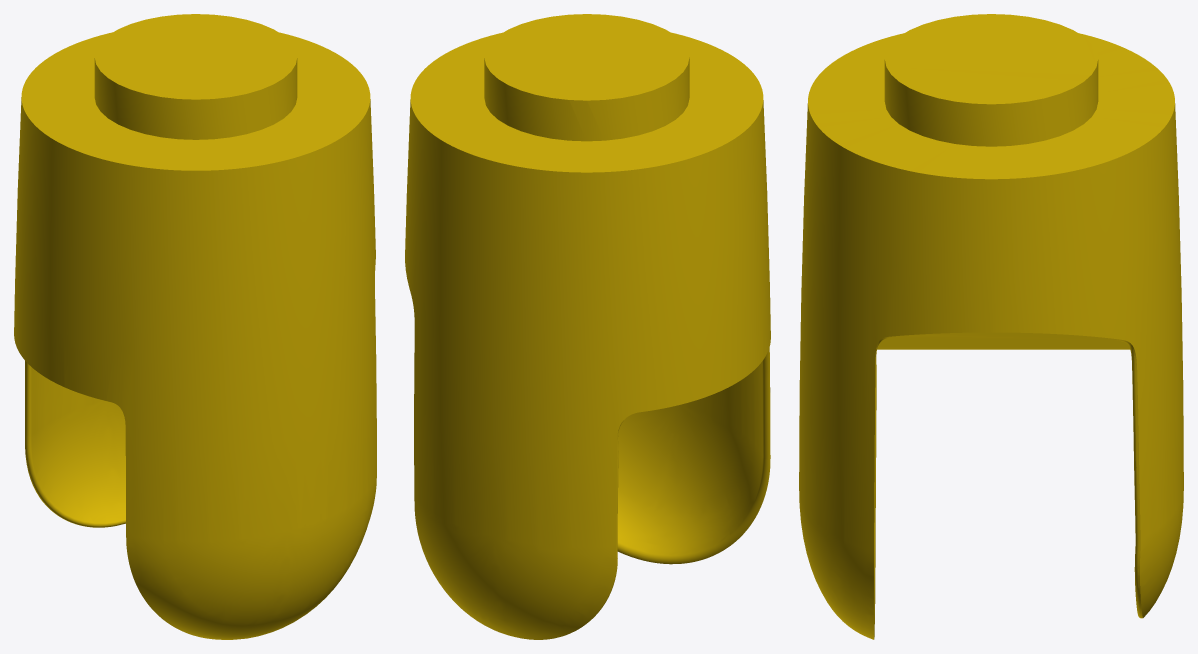
Rendered from arml2.glb.
3 renders of one model, left to right at view 1: azimuth 30°, elevation 25°; view 2: azimuth 150°, elevation 25°; view 3: azimuth 270°, elevation 25°, orthographic. The views are drawn at different scales.
Parts seen in each view (by area): view 1: left_j2; view 2: left_j2; view 3: left_j2.
Part boxes in pixels (x1,y1,x2,y2): left_j2: (14,14,376,639); left_j2: (405,14,770,639); left_j2: (799,14,1183,639).
Size of the model in its own units: 0.1098 by 0.1805 by 0.1111.
